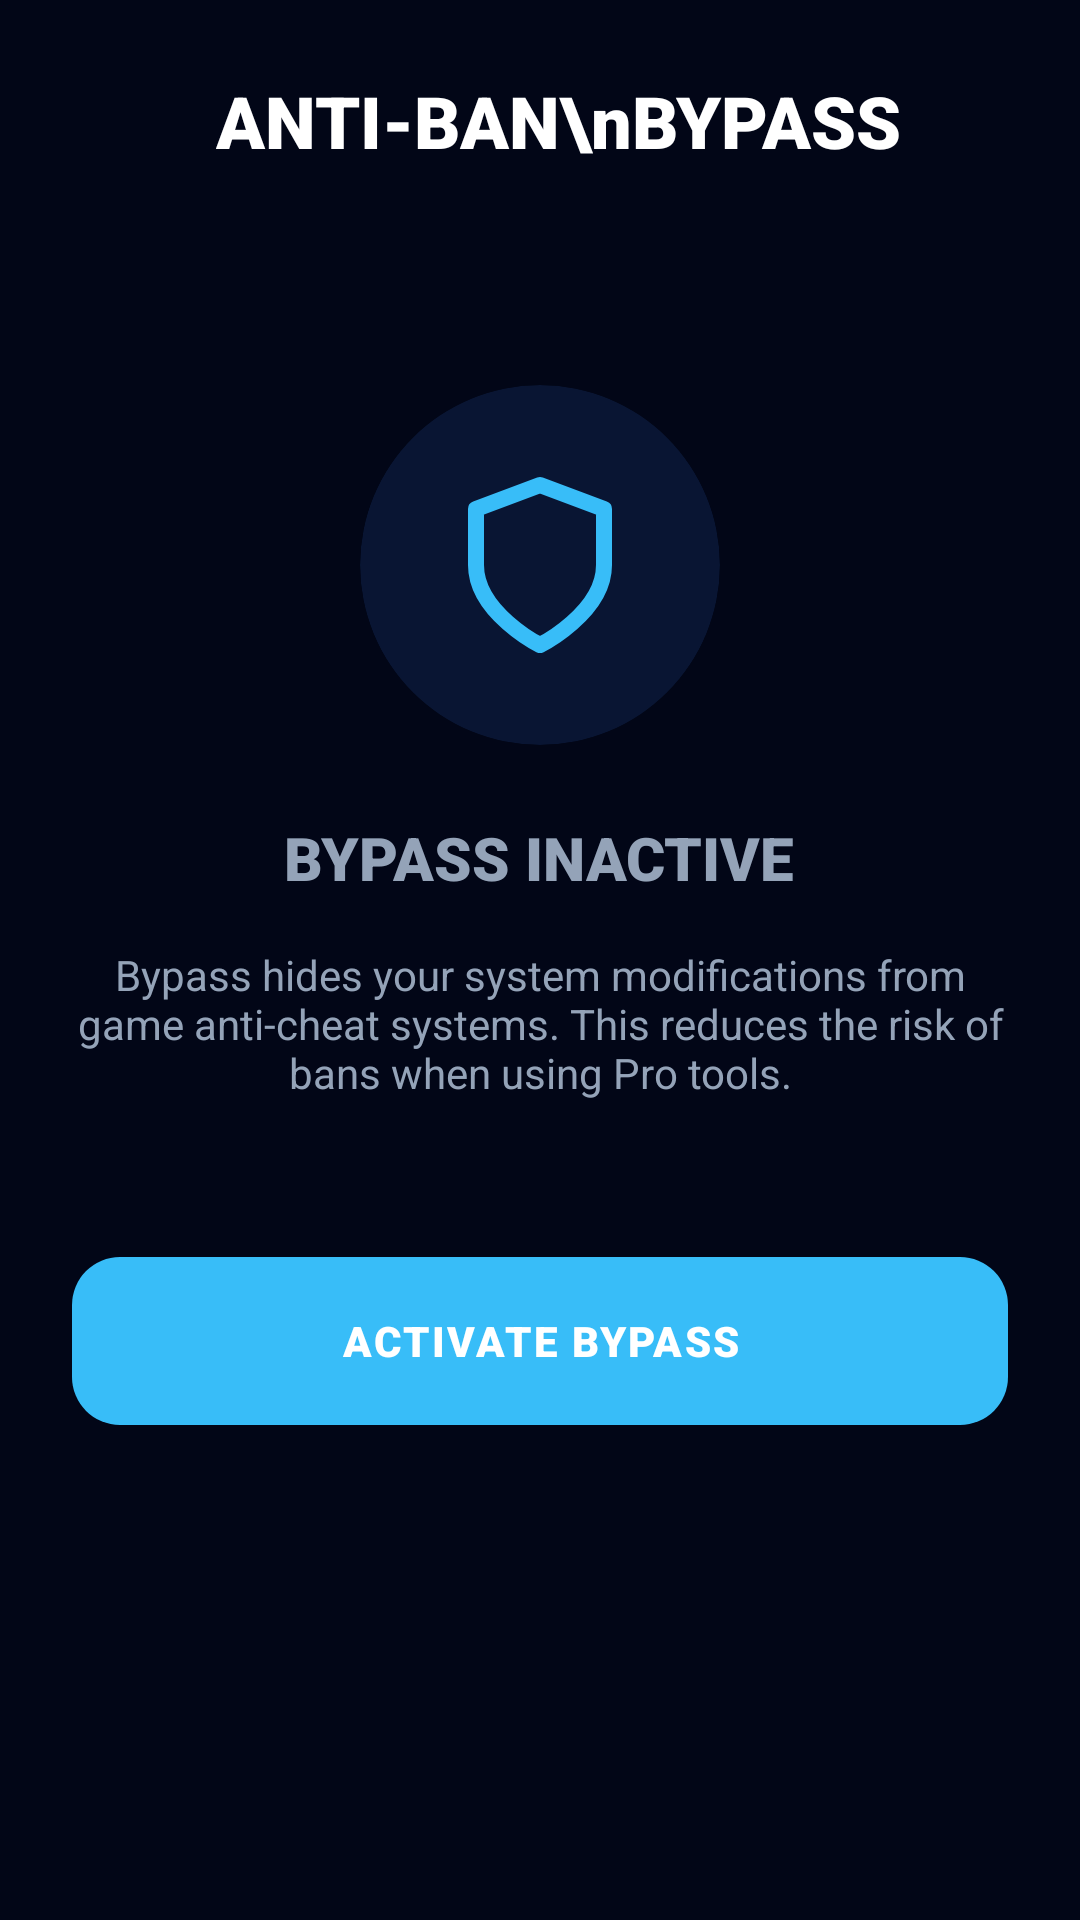

Icons on this 1080w x 1920h Android screen, each with its box as (x1, y1, x2, y2):
shield: (468, 477, 612, 653)
